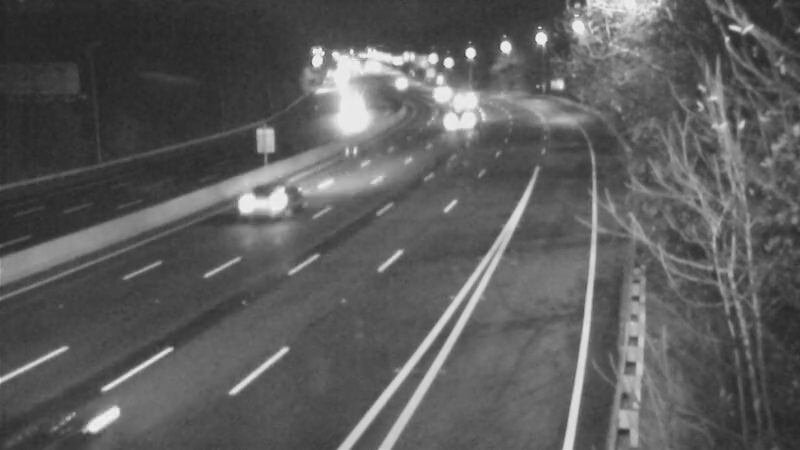vehicle: (224, 165, 304, 245), (376, 60, 426, 110), (416, 71, 466, 121), (436, 73, 486, 123), (436, 99, 486, 149), (321, 82, 371, 132)
